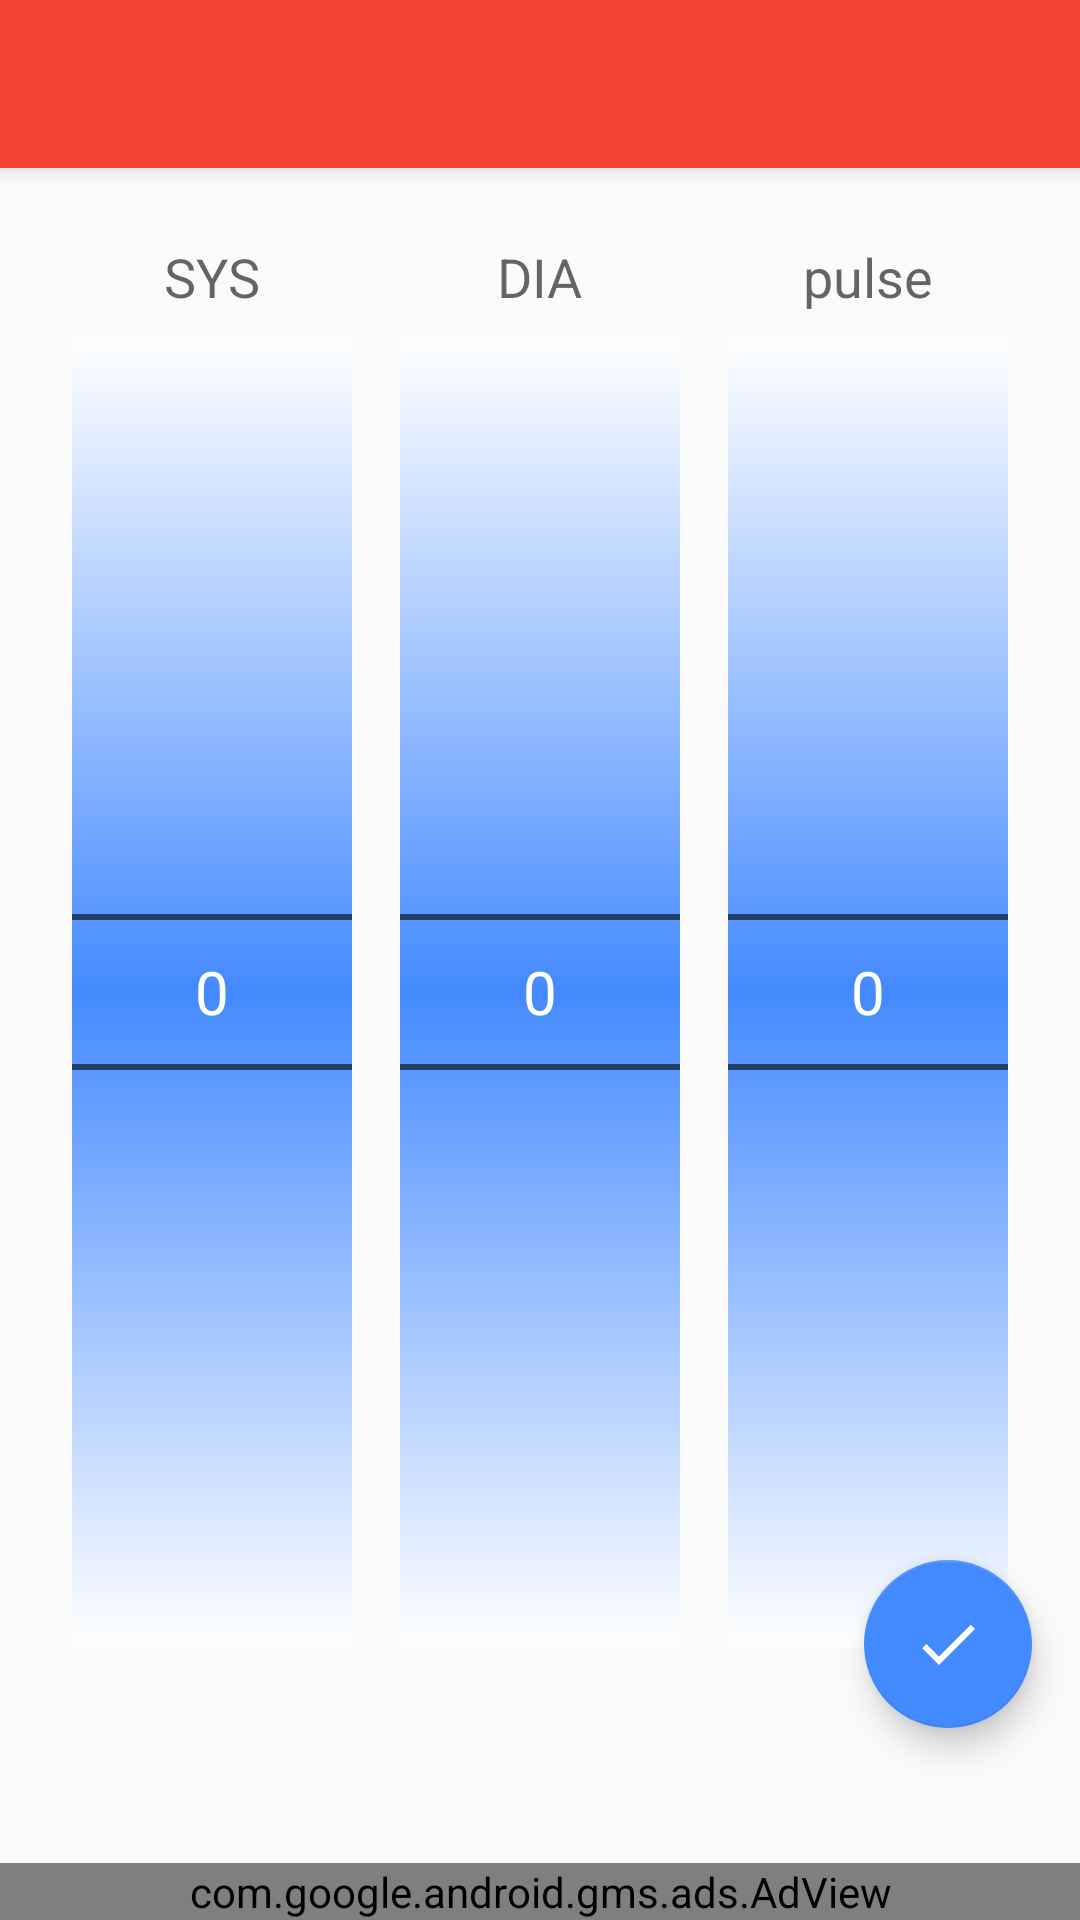

Icon bounding boxes for this 1080x1920 phone screenshot, format [x1, y1, x2, y2]:
done: [864, 1560, 1032, 1728]
